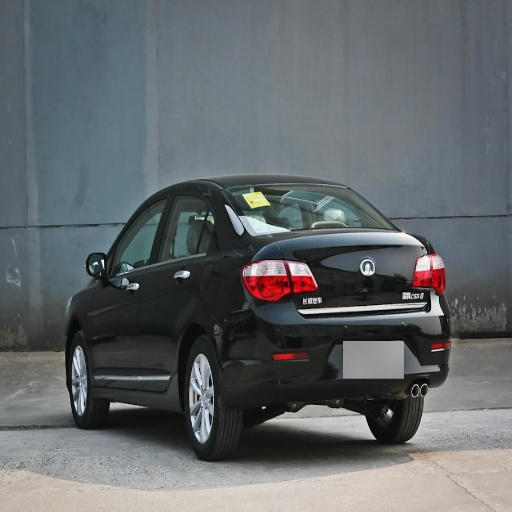back_bumper: (222, 300, 447, 407)
back_glass: (229, 184, 390, 234)
back_left_door: (139, 185, 212, 389)
tailgate: (278, 232, 413, 314)
trunk: (287, 236, 428, 320)
